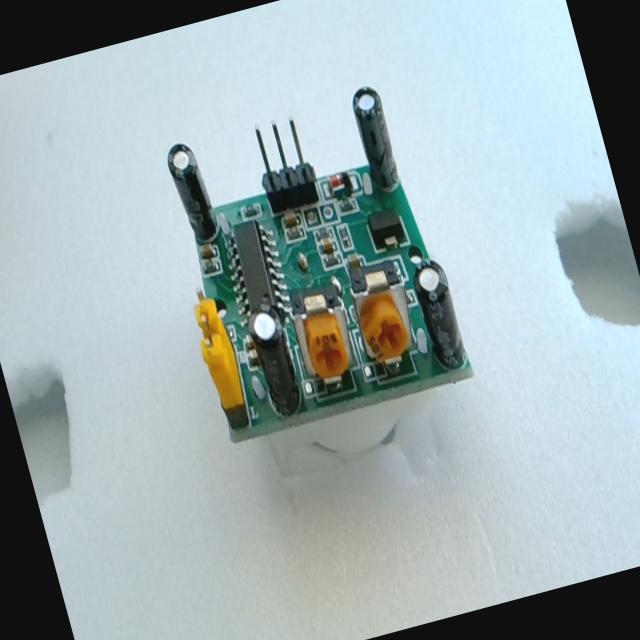Electrolytic capacitor: (407, 252, 471, 373), (243, 302, 307, 420), (163, 138, 223, 248), (346, 82, 404, 195)
IC: (219, 218, 293, 334)
pinheader: (246, 114, 323, 216)
